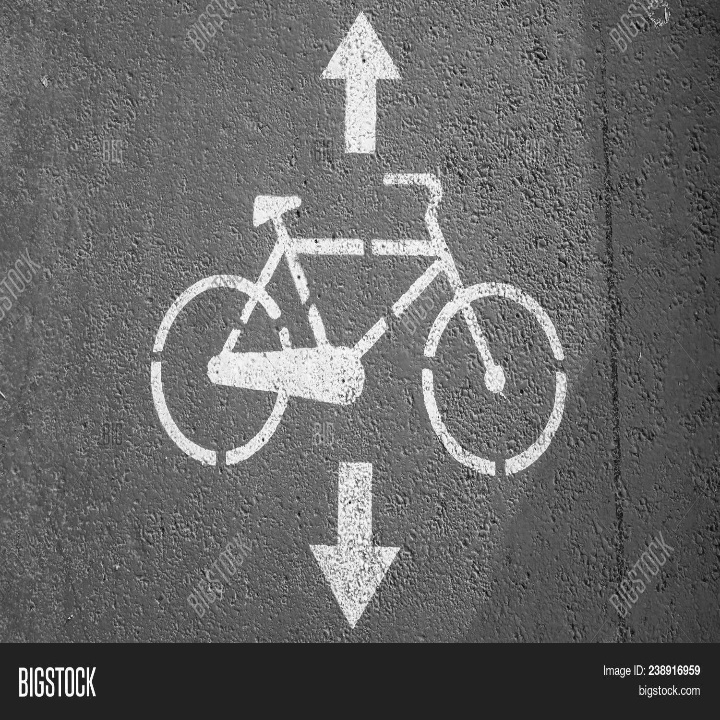bicycle: (125, 135, 585, 517)
